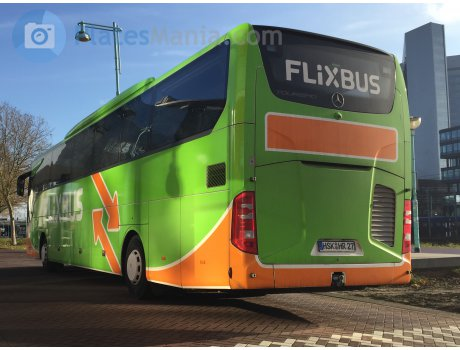License Plates: (324, 241, 359, 249)
